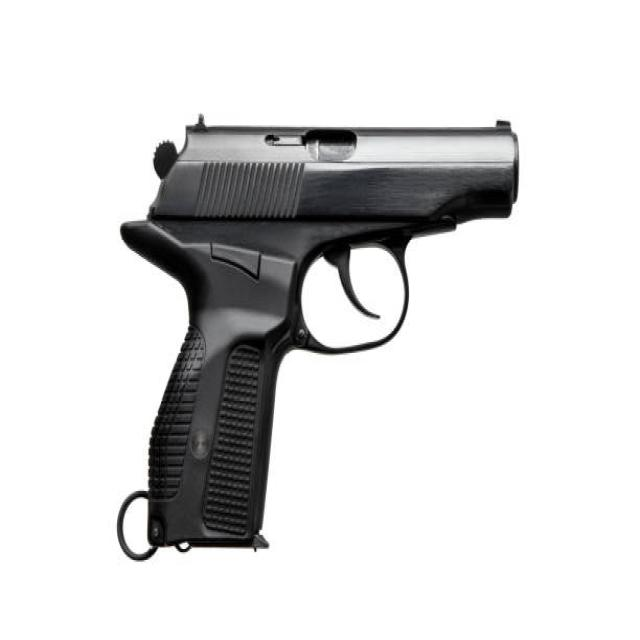pistol: (116, 115, 527, 577)
